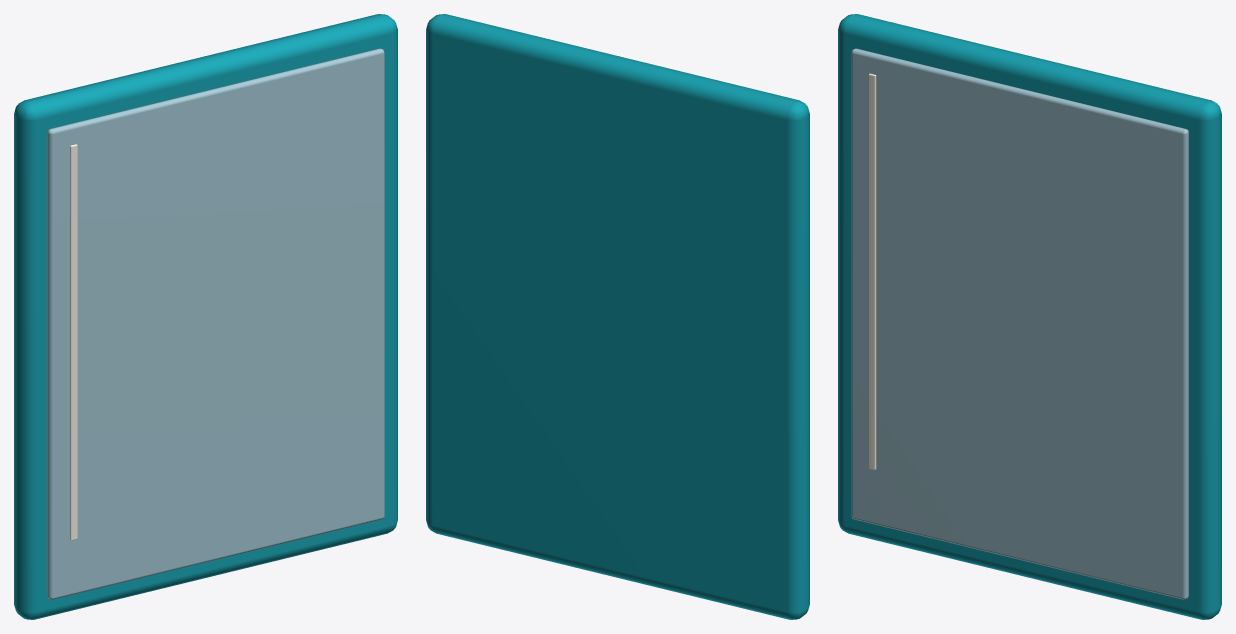
File: Restroom_Flat_Mirror.glb
The picture shows the model from 3 angles, left to right: view 1: azimuth 30°, elevation 25°; view 2: azimuth 150°, elevation 25°; view 3: azimuth 330°, elevation 25°; orthographic projection.
Parts seen in each view (by area): view 1: Restroom_Flat_Mirror__Visual; view 2: Restroom_Flat_Mirror__Visual; view 3: Restroom_Flat_Mirror__Visual.
Part boxes in pixels (<box>): Restroom_Flat_Mirror__Visual: <box>14,14,397,619</box>; Restroom_Flat_Mirror__Visual: <box>426,14,809,619</box>; Restroom_Flat_Mirror__Visual: <box>838,14,1221,619</box>.
Size of the model in its own units: 0.62 by 0.81 by 0.061.
Materials: 1 (1 with a texture image).
